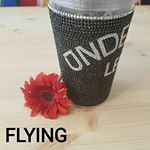cups: (46, 1, 138, 110)
